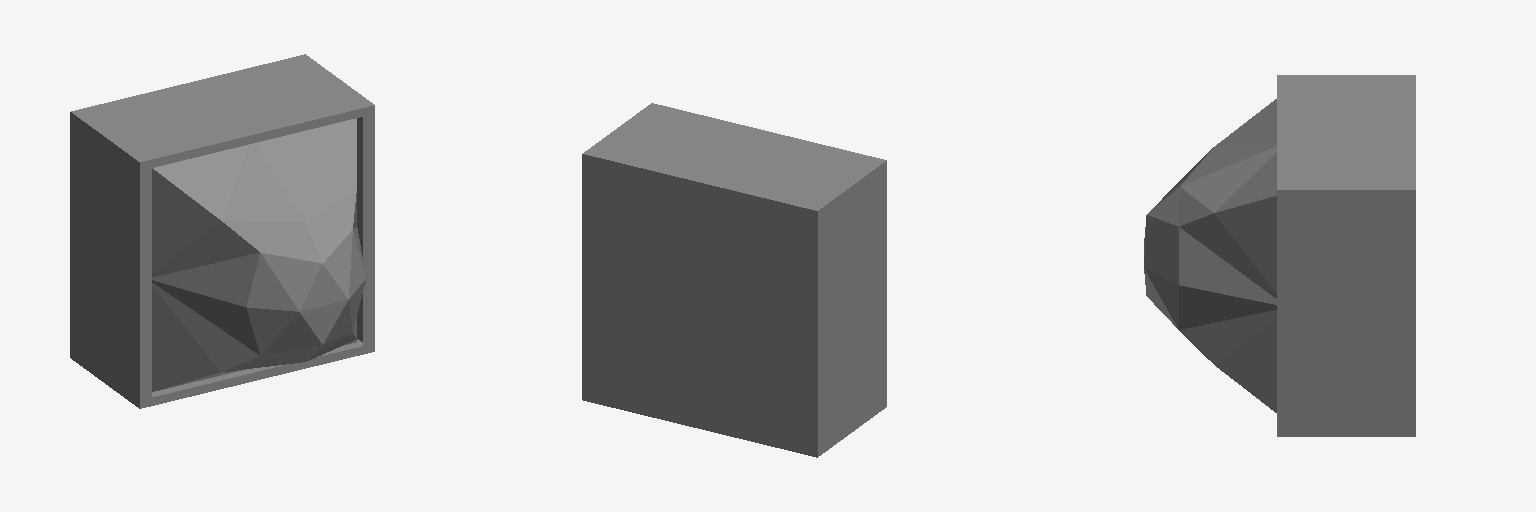
Rendered from window_skylight.obj.
The picture shows the model from 3 angles: view 1: azimuth 30°, elevation 25°; view 2: azimuth 150°, elevation 25°; view 3: azimuth 270°, elevation 25°; orthographic projection.
Visible parts, largest first — view 1: Box022; view 2: Box022; view 3: Box022.
Part boxes in pixels (x1,y1,x2,y2): Box022: (70,54,374,408); Box022: (582,103,886,457); Box022: (1144,75,1415,436).
Bounding box in the file's own units: 12.79 × 12.81 × 12.82.